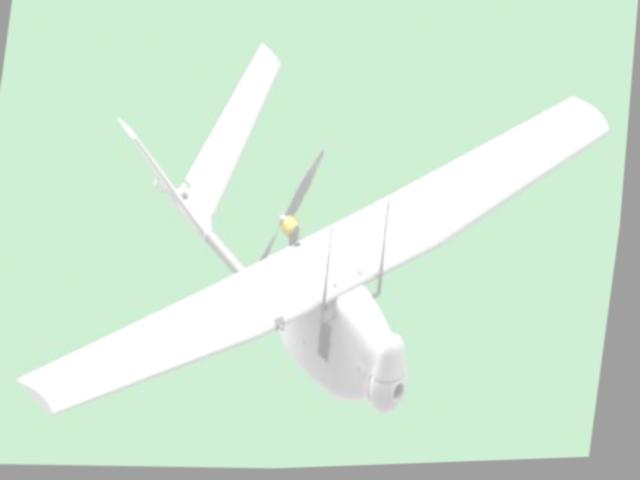uav: (15, 22, 625, 446)
